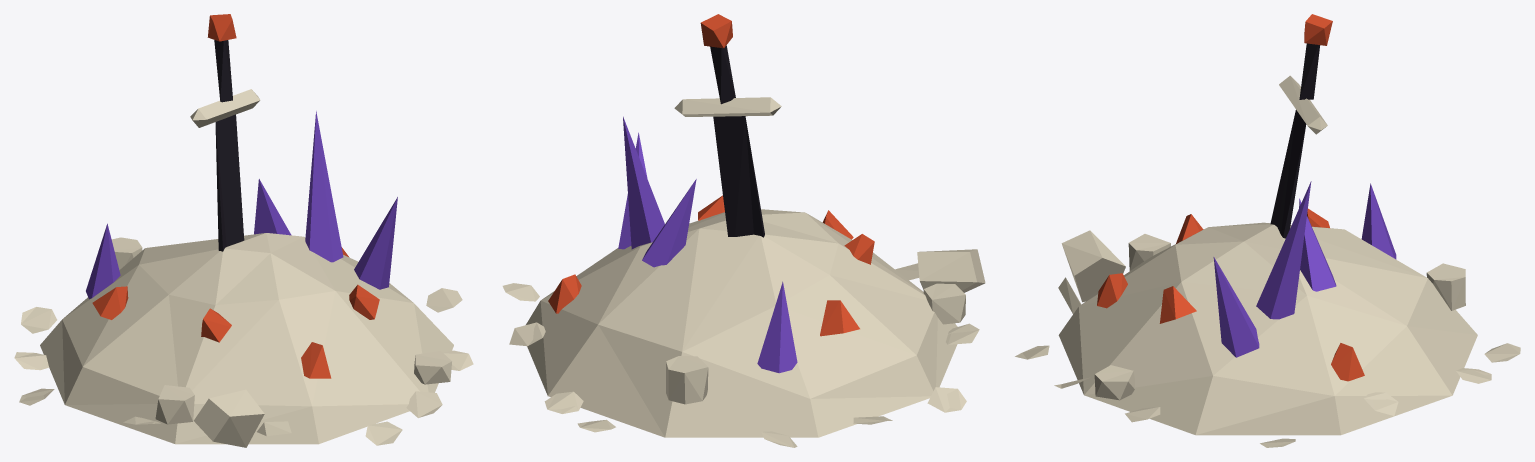
File: loot_pile_lod1.obj
The picture shows the model from 3 angles, left to right: view 1: azimuth 30°, elevation 25°; view 2: azimuth 150°, elevation 25°; view 3: azimuth 270°, elevation 25°; orthographic projection. The views are drawn at different scales.
Parts seen in each view (by area): view 1: loot_pile_lod1; view 2: loot_pile_lod1; view 3: loot_pile_lod1.
Boxes of the visible parts, bbox=[...] form: loot_pile_lod1: bbox=[14, 14, 473, 447]; loot_pile_lod1: bbox=[502, 14, 985, 447]; loot_pile_lod1: bbox=[1015, 14, 1520, 447].
Bounding box in the file's own units: 1.19 × 0.8574 × 1.19.
